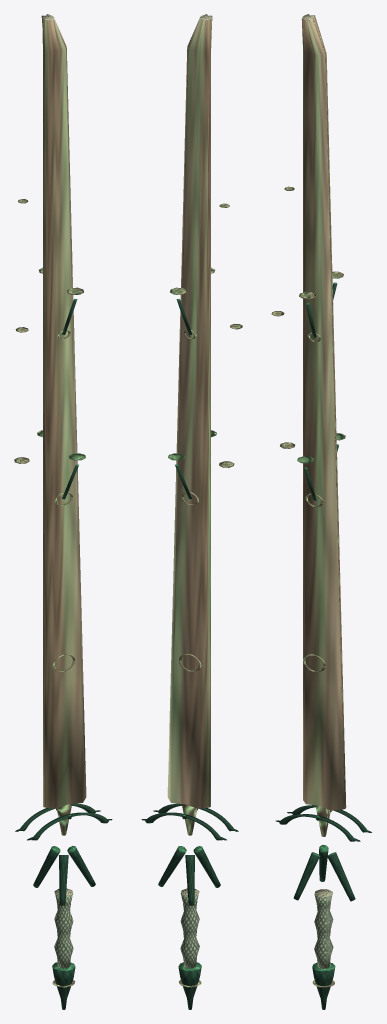
File: sword_13_worldtree.glb
3 views of the same model, side by side, from view 1: azimuth 30°, elevation 25°; view 2: azimuth 150°, elevation 25°; view 3: azimuth 330°, elevation 25° (orthographic).
Visible parts, largest first — view 1: Trunk_WorldtreeBlade, Roots_CosmosRoots, Grip_WorldtreeBark, Guard_BranchCrown, Pommel_TreeOrb, Branches_Worldtree, Inlay_GrowthRings, Core_CosmosSeed; view 2: Trunk_WorldtreeBlade, Roots_CosmosRoots, Grip_WorldtreeBark, Guard_BranchCrown, Pommel_TreeOrb, Branches_Worldtree, Inlay_GrowthRings, Core_CosmosSeed; view 3: Trunk_WorldtreeBlade, Grip_WorldtreeBark, Roots_CosmosRoots, Guard_BranchCrown, Branches_Worldtree, Pommel_TreeOrb, Inlay_GrowthRings, Core_CosmosSeed.
Part boxes in pixels (bbox=[...]): Trunk_WorldtreeBlade: bbox=[41, 14, 86, 808]; Roots_CosmosRoots: bbox=[33, 846, 95, 905]; Grip_WorldtreeBark: bbox=[54, 888, 73, 968]; Guard_BranchCrown: bbox=[15, 803, 112, 840]; Pommel_TreeOrb: bbox=[52, 962, 75, 1009]; Branches_Worldtree: bbox=[37, 267, 85, 499]; Inlay_GrowthRings: bbox=[52, 330, 75, 671]; Core_CosmosSeed: bbox=[56, 804, 71, 835]; Trunk_WorldtreeBlade: bbox=[167, 14, 212, 808]; Roots_CosmosRoots: bbox=[158, 846, 220, 905]; Grip_WorldtreeBark: bbox=[180, 888, 199, 968]; Guard_BranchCrown: bbox=[141, 803, 238, 840]; Pommel_TreeOrb: bbox=[178, 962, 201, 1009]; Branches_Worldtree: bbox=[168, 267, 216, 499]; Inlay_GrowthRings: bbox=[179, 330, 201, 671]; Core_CosmosSeed: bbox=[182, 804, 197, 835]; Trunk_WorldtreeBlade: bbox=[301, 14, 346, 810]; Grip_WorldtreeBark: bbox=[314, 889, 333, 968]; Roots_CosmosRoots: bbox=[293, 845, 355, 901]; Guard_BranchCrown: bbox=[275, 805, 371, 841]; Branches_Worldtree: bbox=[297, 271, 345, 500]; Pommel_TreeOrb: bbox=[312, 962, 335, 1009]; Inlay_GrowthRings: bbox=[303, 332, 325, 671]; Core_CosmosSeed: bbox=[316, 805, 330, 836].
Bounding box in the file's own units: 0.2543 × 2.6 × 0.193.
1 material, 1 textured.
